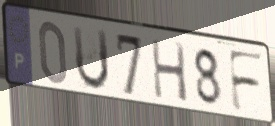0: (36, 20, 69, 88)
7: (114, 30, 145, 98)
8: (192, 46, 225, 108)
F: (226, 47, 266, 115)
H: (149, 37, 190, 105)
U: (71, 24, 112, 93)
